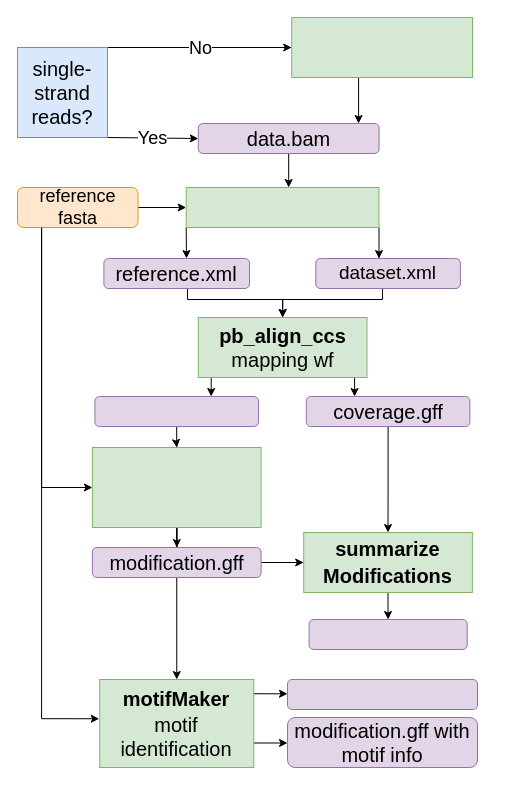
Some shapes in this 505 by 796 pixel diagram are drawn without their labels. Here are the shapes that lost their labels. From the top down, the centre of each, then its label:
At point 381,47: "ccs-kinetics-bystrandify".
At point 282,207: "dataset create".
At point 176,411: "aligned.bam".
At point 176,487: "ipdSummary modification identification".
At point 387,634: "modSummary.gff".
At point 382,694: "motif.csv".
